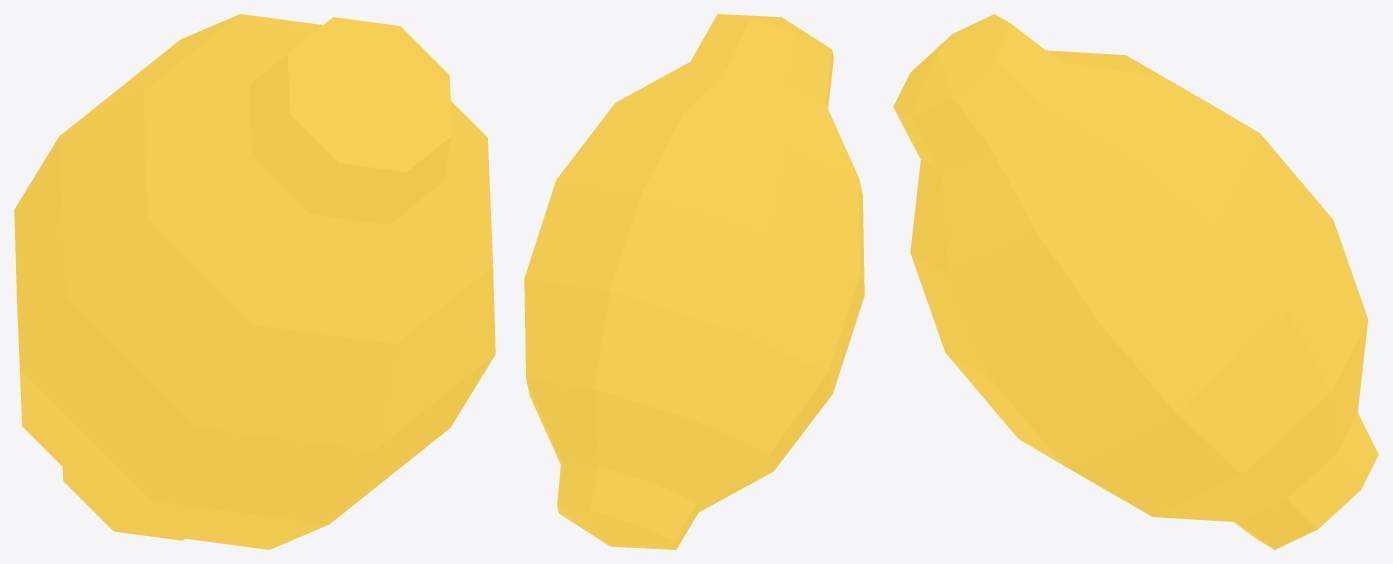
The model's file is 009_lemon.gltf.
The picture shows the model from 3 angles, left to right: view 1: azimuth 30°, elevation 25°; view 2: azimuth 150°, elevation 25°; view 3: azimuth 270°, elevation 25°; orthographic projection. The views are drawn at different scales.
Visible parts, largest first — view 1: Cube; view 2: Cube; view 3: Cube.
Boxes of the visible parts, x1,y1,x2,y2 form: Cube: [14, 14, 495, 549]; Cube: [524, 14, 864, 549]; Cube: [893, 14, 1378, 549].
Size of the model in its own units: 2.9 by 4.16 by 3.55.
